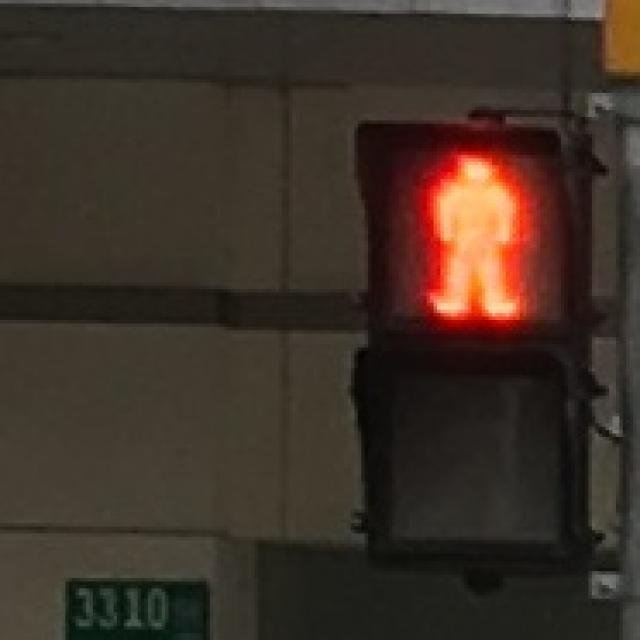red-light: (393, 150, 541, 326)
